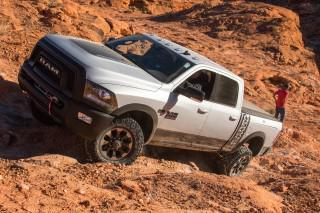ram: (36, 53, 65, 79)
